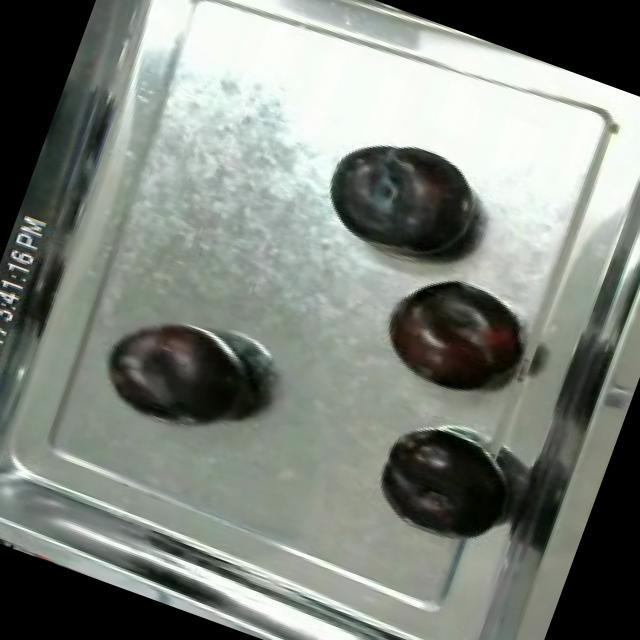Fruit: (310, 118, 496, 276), (91, 299, 276, 451), (370, 258, 534, 412), (362, 414, 525, 556)
